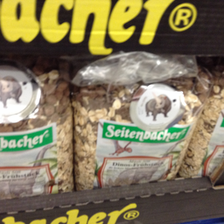cereal: (73, 67, 208, 184), (1, 71, 73, 199)
